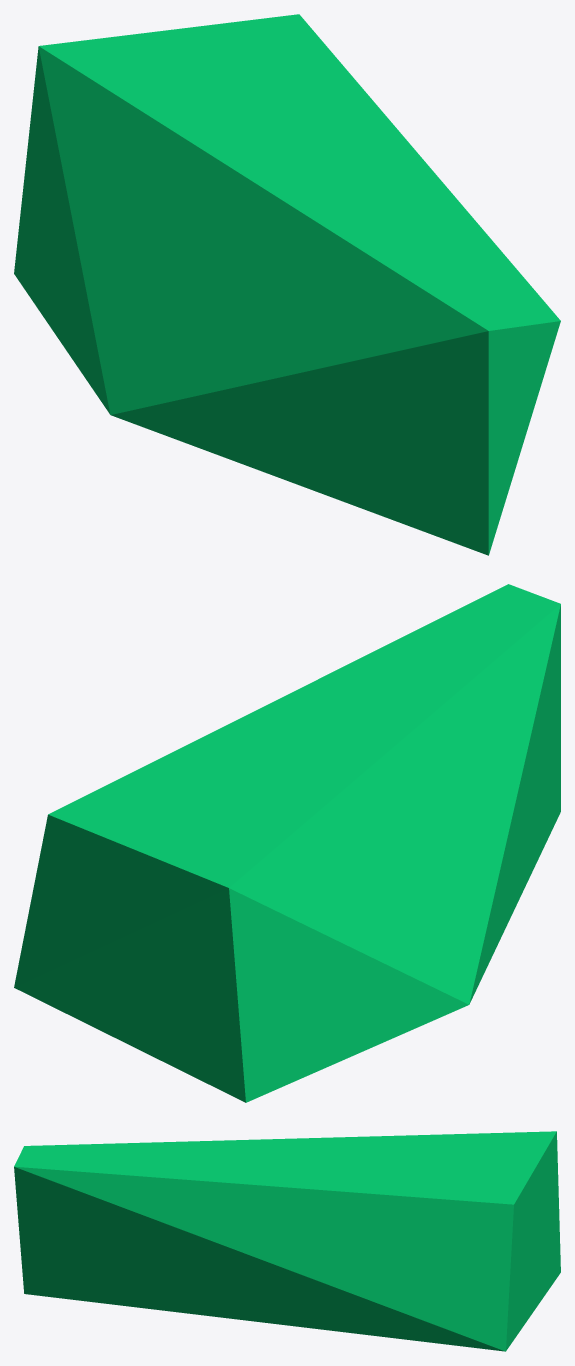
Rendered from coffee_convex_piece_009.obj.
3 views of the same model, one above another, from view 1: azimuth 30°, elevation 25°; view 2: azimuth 150°, elevation 25°; view 3: azimuth 270°, elevation 25° (orthographic). The views are drawn at different scales.
Bounding box in the file's own units: 0.000136 × 8e-05 × 0.000268.
